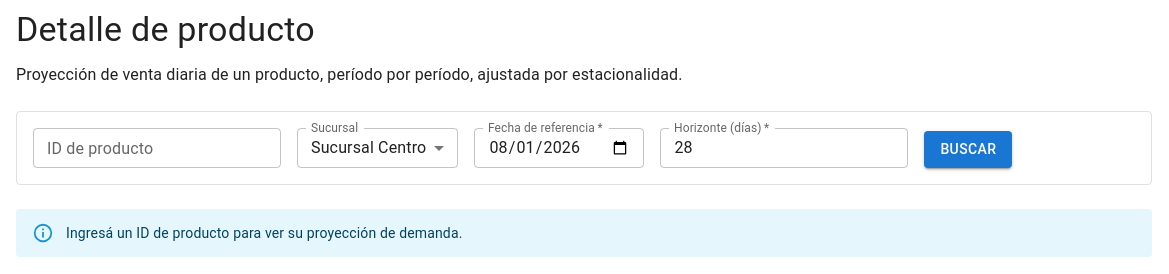
Scenario: ProductDetailPage › rechaza un decimal como ID de producto con un mensaje en español
The width and height of the screenshot is (1169, 274).
Type "1.5" into the number field labelled "ID de producto".
click(157, 148); type("1.5")  # box left=33, top=128, right=281, bottom=168
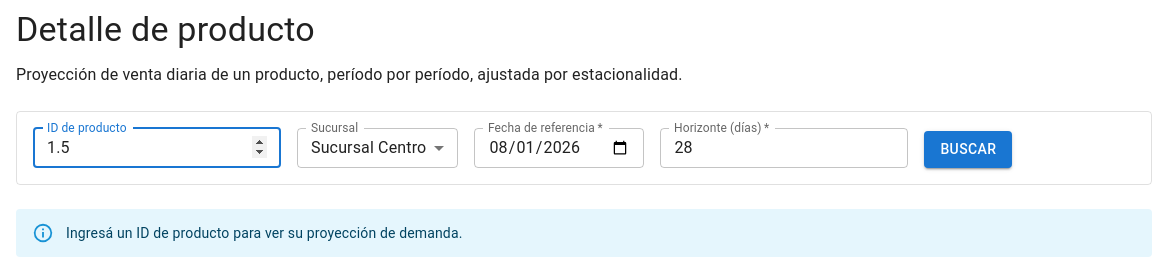
Click the button "Buscar".
click(968, 150)  # box left=924, top=131, right=1012, bottom=168
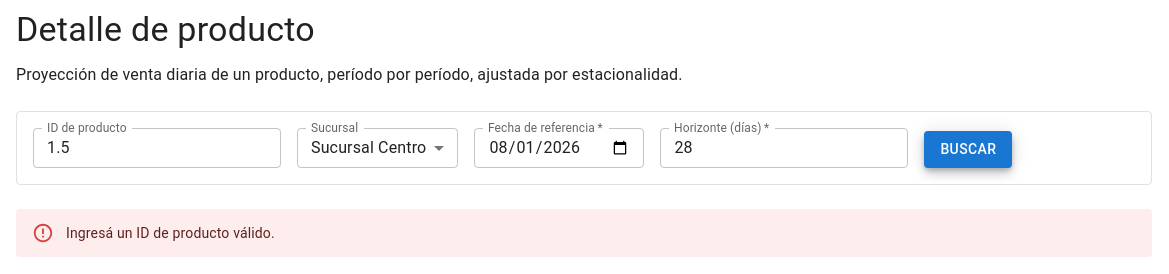
Now the text "Ingresá un ID de producto válido." is shown, box left=66, top=225, right=275, bottom=241
